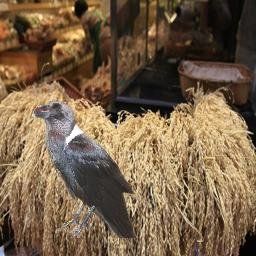Crow: (31, 99, 137, 238)
